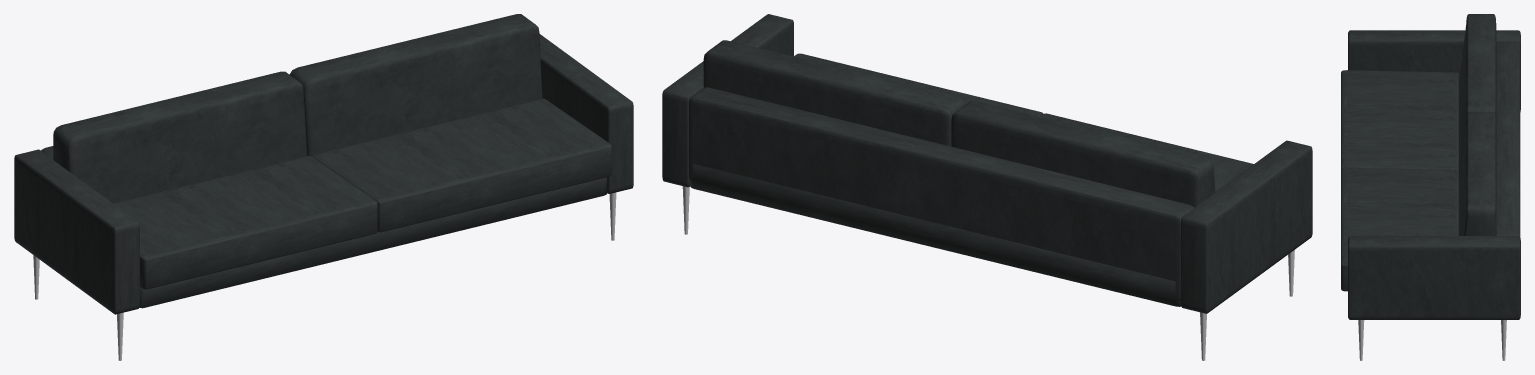
File: sofa.FBX
3 views of the same model, side by side, from view 1: azimuth 30°, elevation 25°; view 2: azimuth 150°, elevation 25°; view 3: azimuth 270°, elevation 25° (orthographic). The views are drawn at different scales.
Parts seen in each view (by area): view 1: sofa; view 2: sofa; view 3: sofa.
Part boxes in pixels (x1,y1,x2,y2): sofa: [14, 14, 633, 360]; sofa: [662, 14, 1312, 360]; sofa: [1341, 14, 1520, 360].
Size of the model in its own units: 309 by 98.67 by 109.
